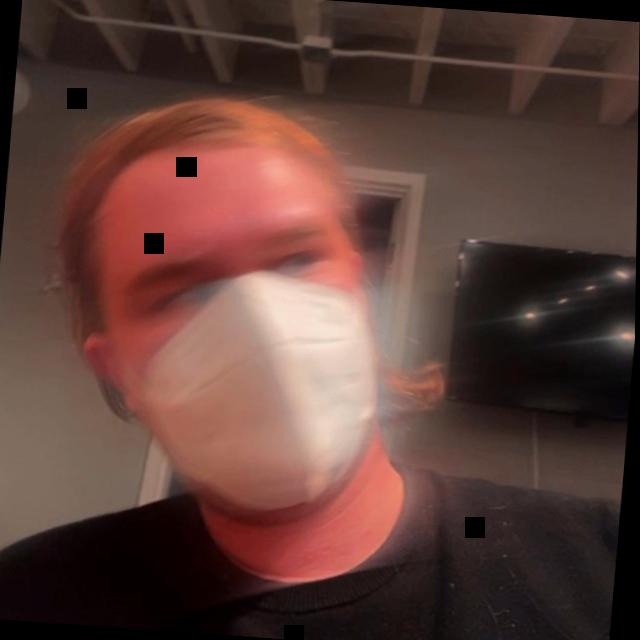Mask: (17, 65, 483, 582)
